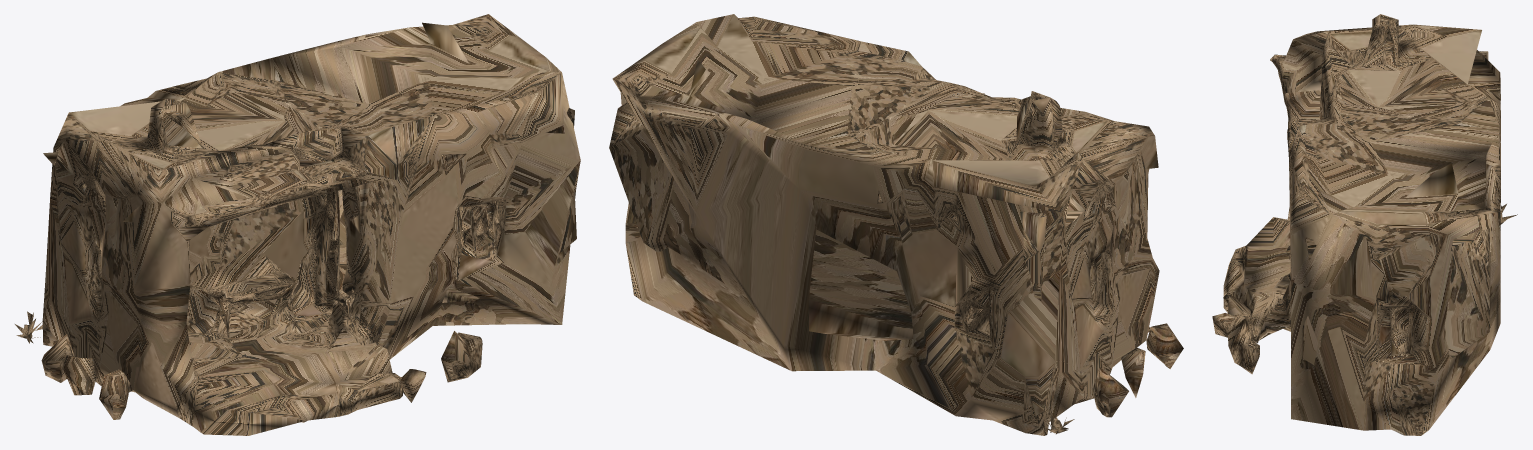
Rendered from silt_and_signal_port_duneAdobeA.514e8fc2.glb.
The picture shows the model from 3 angles, left to right: view 1: azimuth 30°, elevation 25°; view 2: azimuth 150°, elevation 25°; view 3: azimuth 270°, elevation 25°; orthographic projection. The views are drawn at different scales.
Bounding box in the file's own units: 1.61 × 0.8587 × 0.9566.
Materials: 1 (1 with a texture image).
